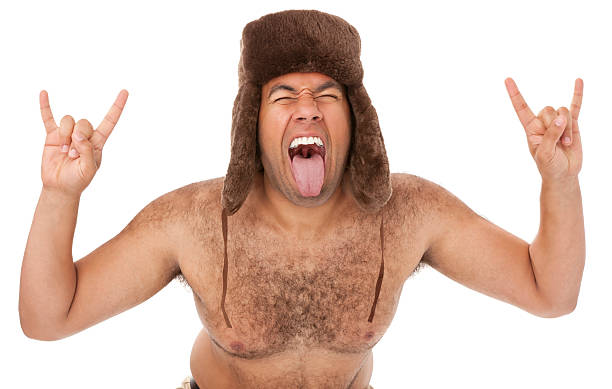Rock On: (28, 79, 137, 198), (500, 71, 604, 170)
